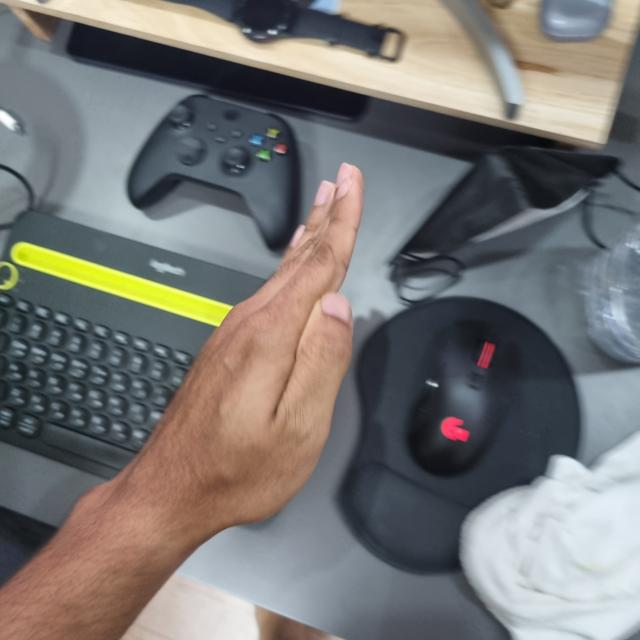Paper: (142, 169, 368, 525)
